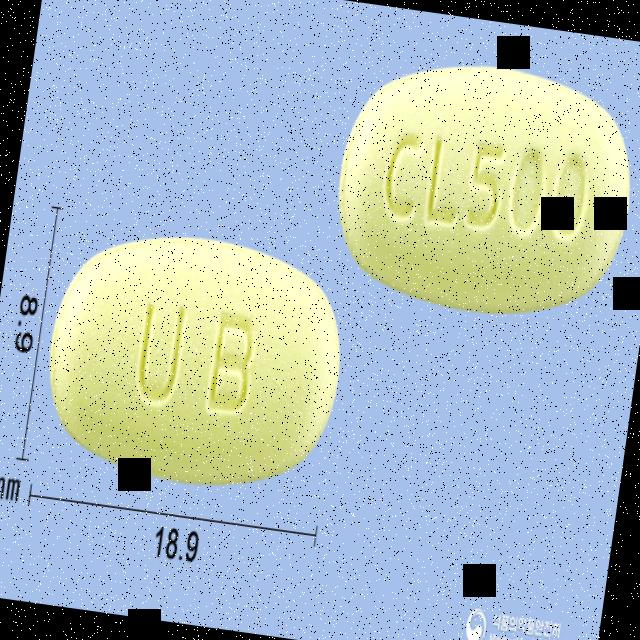Clad: (29, 210, 360, 511), (318, 38, 640, 340)
